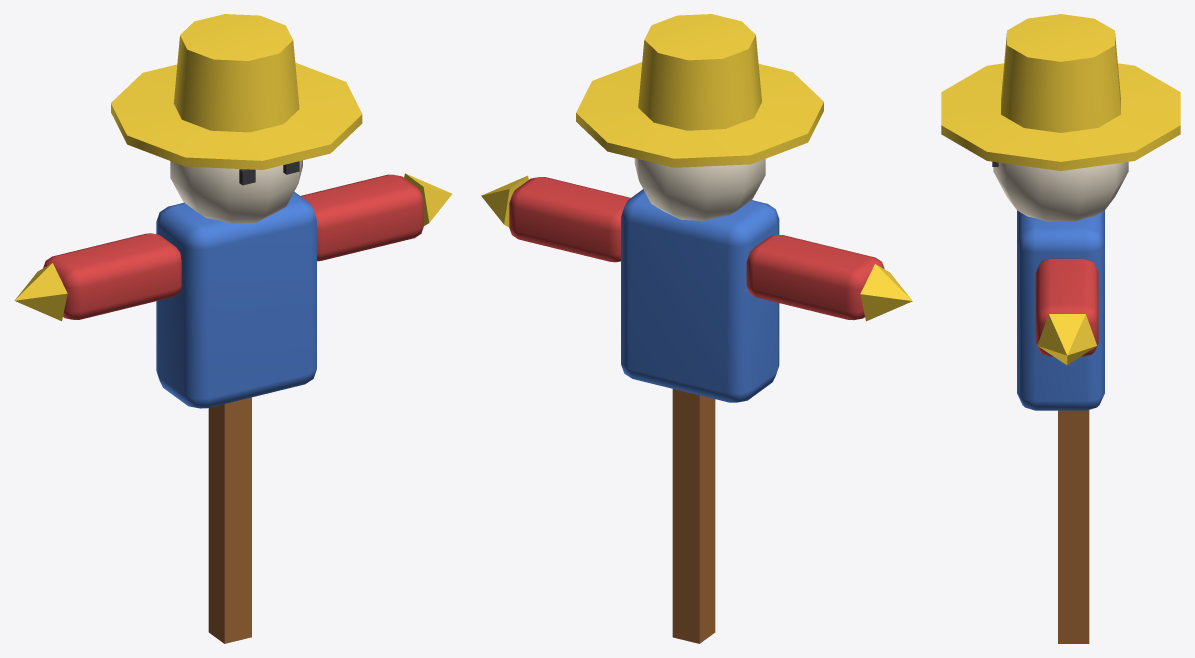
The model's file is Scarecrow.fbx.
The picture shows the model from 3 angles, left to right: view 1: azimuth 30°, elevation 25°; view 2: azimuth 150°, elevation 25°; view 3: azimuth 270°, elevation 25°; orthographic projection.
Visible parts, largest first — view 1: Scarecrow; view 2: Scarecrow; view 3: Scarecrow.
Part boxes in pixels (<box>): Scarecrow: <box>14,14,452,643</box>; Scarecrow: <box>481,14,912,643</box>; Scarecrow: <box>941,14,1180,643</box>.
Bounding box in the file's own units: 4 × 5.27 × 1.9.
Materials: 1 (1 with a texture image).
